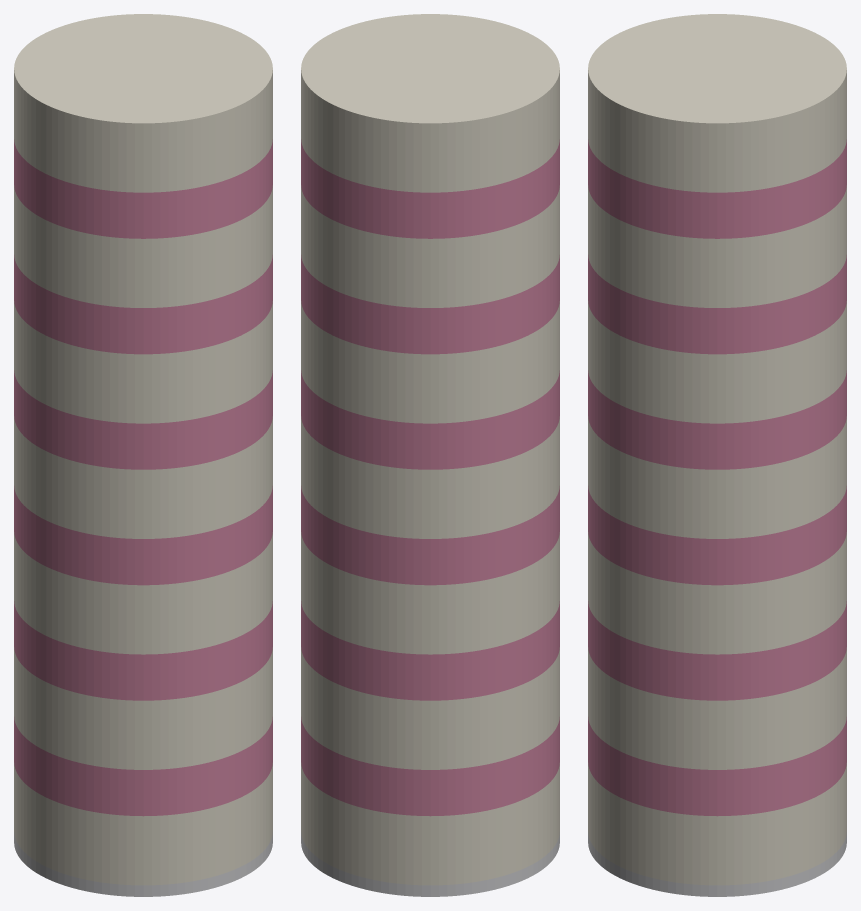
The model's file is cake_4in_layers7.glb.
The picture shows the model from 3 angles, left to right: view 1: azimuth 30°, elevation 25°; view 2: azimuth 150°, elevation 25°; view 3: azimuth 270°, elevation 25°; orthographic projection.
Visible parts, largest first — view 1: geometry_12, geometry_0, geometry_4, geometry_2, geometry_6, geometry_8, geometry_10, geometry_3, geometry_7, geometry_11, geometry_5, geometry_9 (+2 smaller); view 2: geometry_12, geometry_0, geometry_4, geometry_2, geometry_6, geometry_8, geometry_10, geometry_3, geometry_7, geometry_11, geometry_5, geometry_9 (+2 smaller); view 3: geometry_12, geometry_0, geometry_4, geometry_2, geometry_6, geometry_8, geometry_10, geometry_3, geometry_7, geometry_11, geometry_5, geometry_9 (+2 smaller).
Part boxes in pixels (<box>): geometry_12: <box>14,14,272,192</box>; geometry_0: <box>14,763,272,885</box>; geometry_4: <box>14,532,272,654</box>; geometry_2: <box>14,647,272,769</box>; geometry_6: <box>14,416,272,538</box>; geometry_8: <box>14,301,272,423</box>; geometry_10: <box>14,185,272,307</box>; geometry_3: <box>14,601,272,700</box>; geometry_7: <box>14,370,272,469</box>; geometry_11: <box>14,139,272,238</box>; geometry_5: <box>14,486,272,585</box>; geometry_9: <box>14,255,272,354</box>; geometry_12: <box>301,14,559,192</box>; geometry_0: <box>301,763,559,885</box>; geometry_4: <box>301,532,559,654</box>; geometry_2: <box>301,647,559,769</box>; geometry_6: <box>301,416,559,538</box>; geometry_8: <box>301,301,559,423</box>; geometry_10: <box>301,185,559,307</box>; geometry_3: <box>301,601,559,700</box>; geometry_7: <box>301,370,559,469</box>; geometry_11: <box>301,139,559,238</box>; geometry_5: <box>301,486,559,585</box>; geometry_9: <box>301,255,559,354</box>; geometry_12: <box>588,14,846,192</box>; geometry_0: <box>588,763,846,885</box>; geometry_4: <box>588,532,846,654</box>; geometry_2: <box>588,647,846,769</box>; geometry_6: <box>588,416,846,538</box>; geometry_8: <box>588,301,846,423</box>; geometry_10: <box>588,185,846,307</box>; geometry_3: <box>588,601,846,700</box>; geometry_7: <box>588,370,846,469</box>; geometry_11: <box>588,139,846,238</box>; geometry_5: <box>588,486,846,585</box>; geometry_9: <box>588,255,846,354</box>.
Bounding box in the file's own units: 0.1016 × 0.335 × 0.1016.
